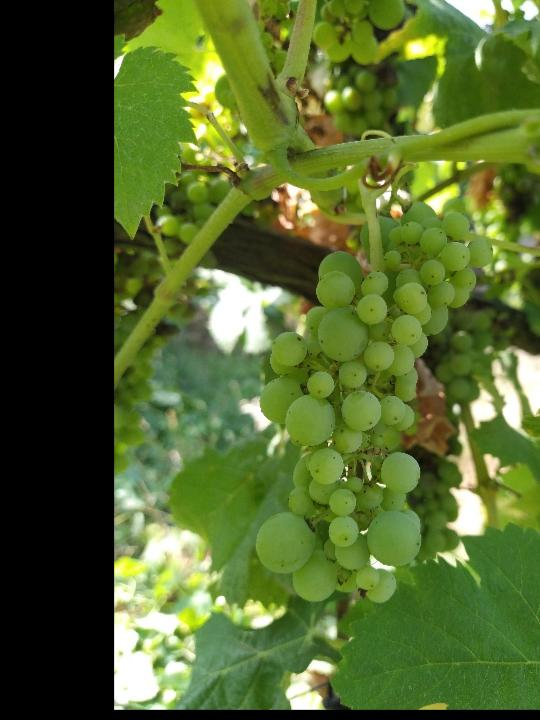grape: (254, 197, 496, 607)
